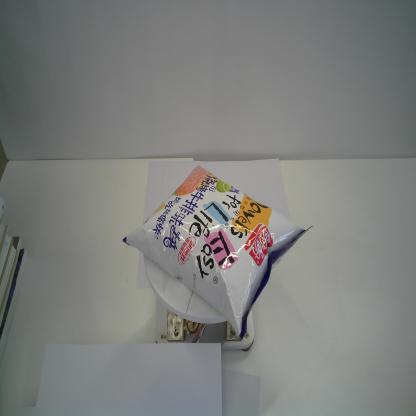Puffed Food: (119, 162, 315, 342)
